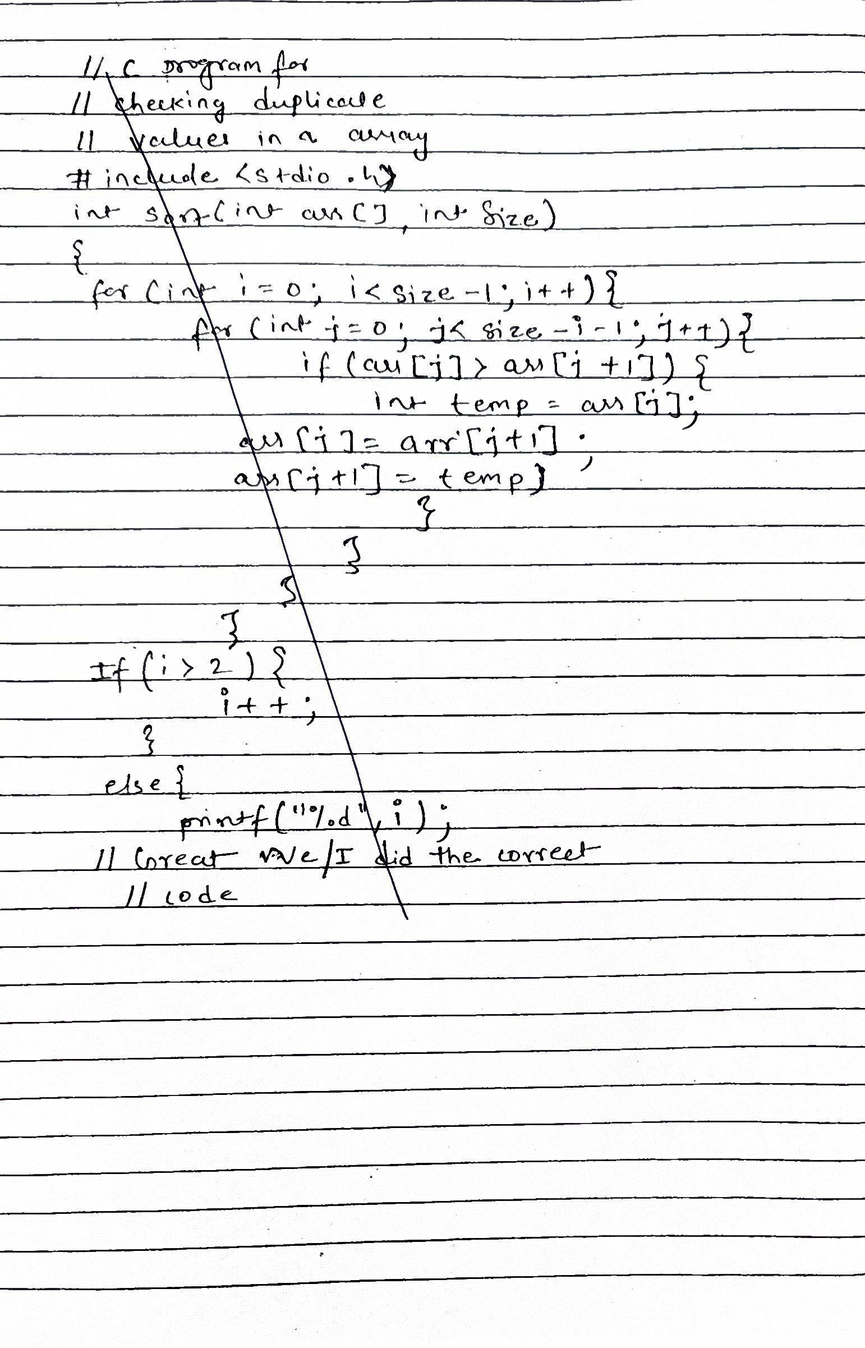cuttings: (62, 46, 758, 929)
